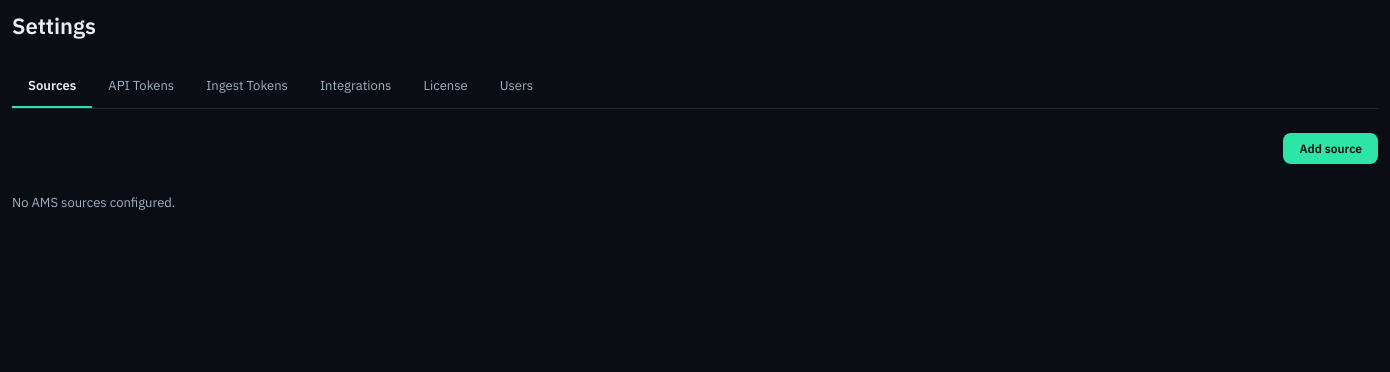
Test: SettingsPage rendering › (d) Tokens tab — empty state shown when navigating to tokens tab
The image size is (1390, 372).
Click the tab "API Tokens": point(141, 86) top-left (92, 64), bottom-right (190, 108)
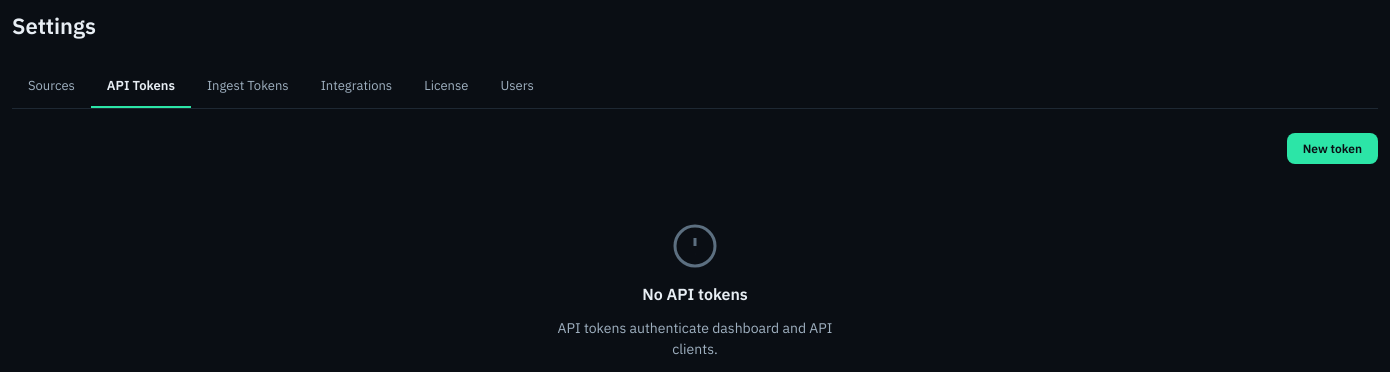
Result: the heading "No API tokens" is shown at top-left (642, 282), bottom-right (748, 306)
